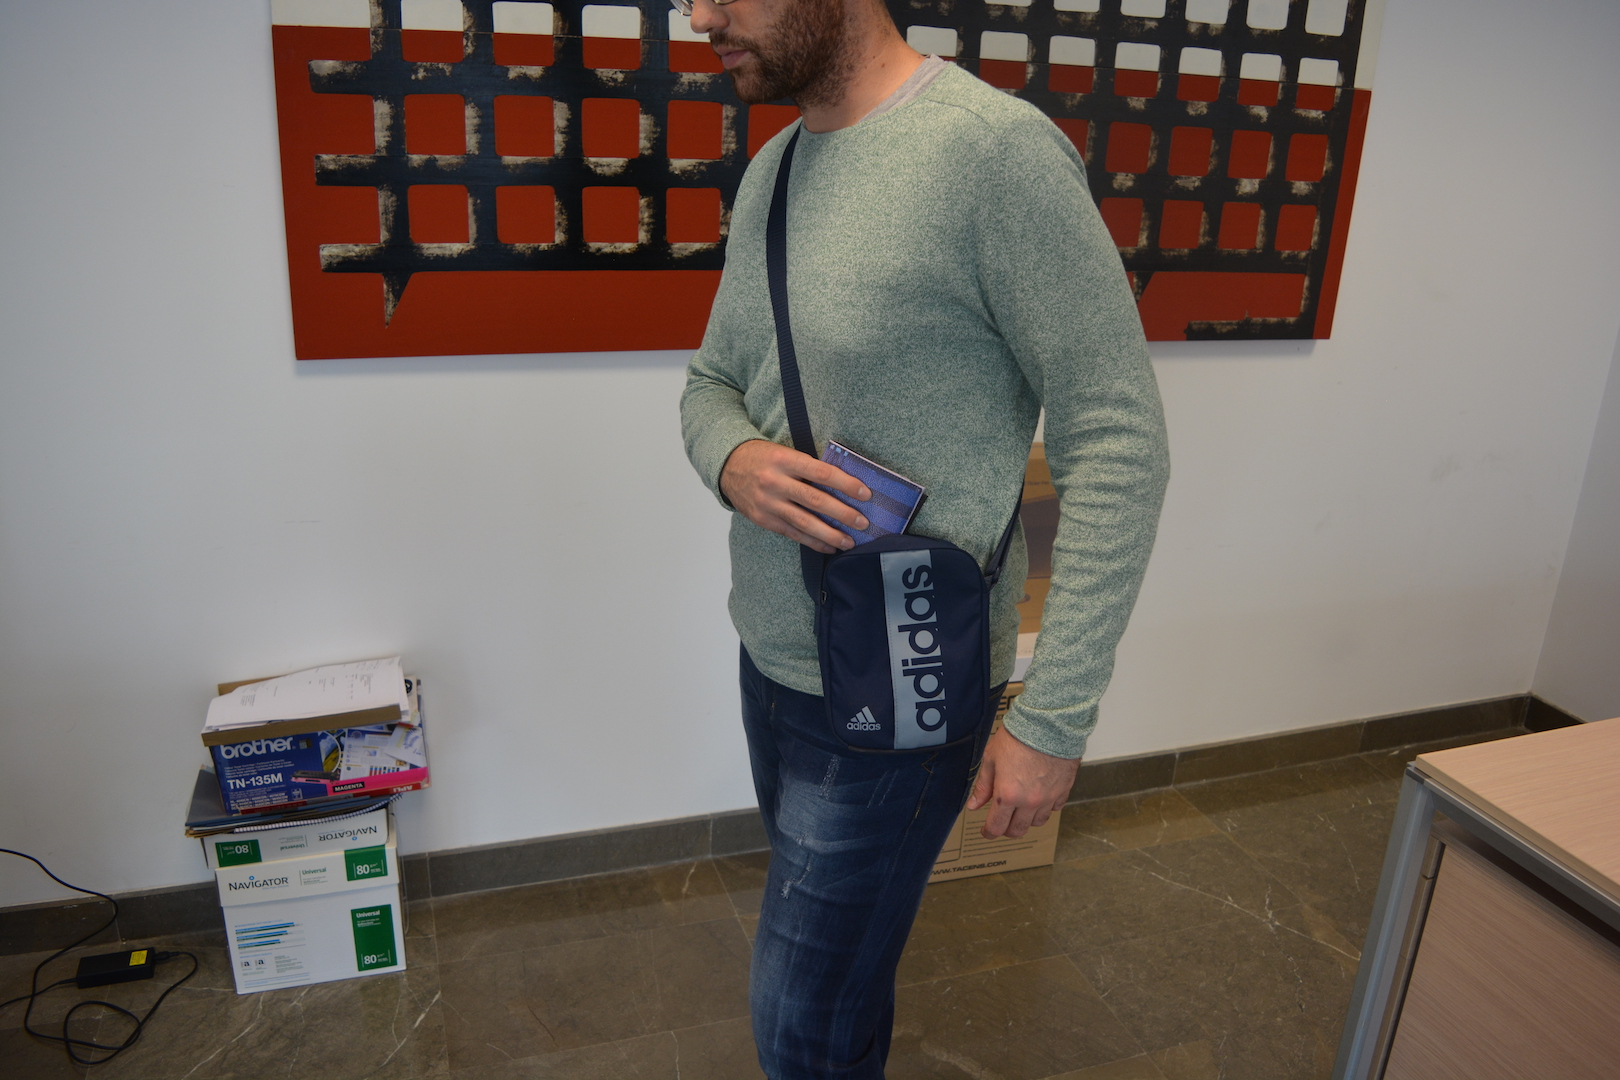monedero: (800, 438, 925, 551)
